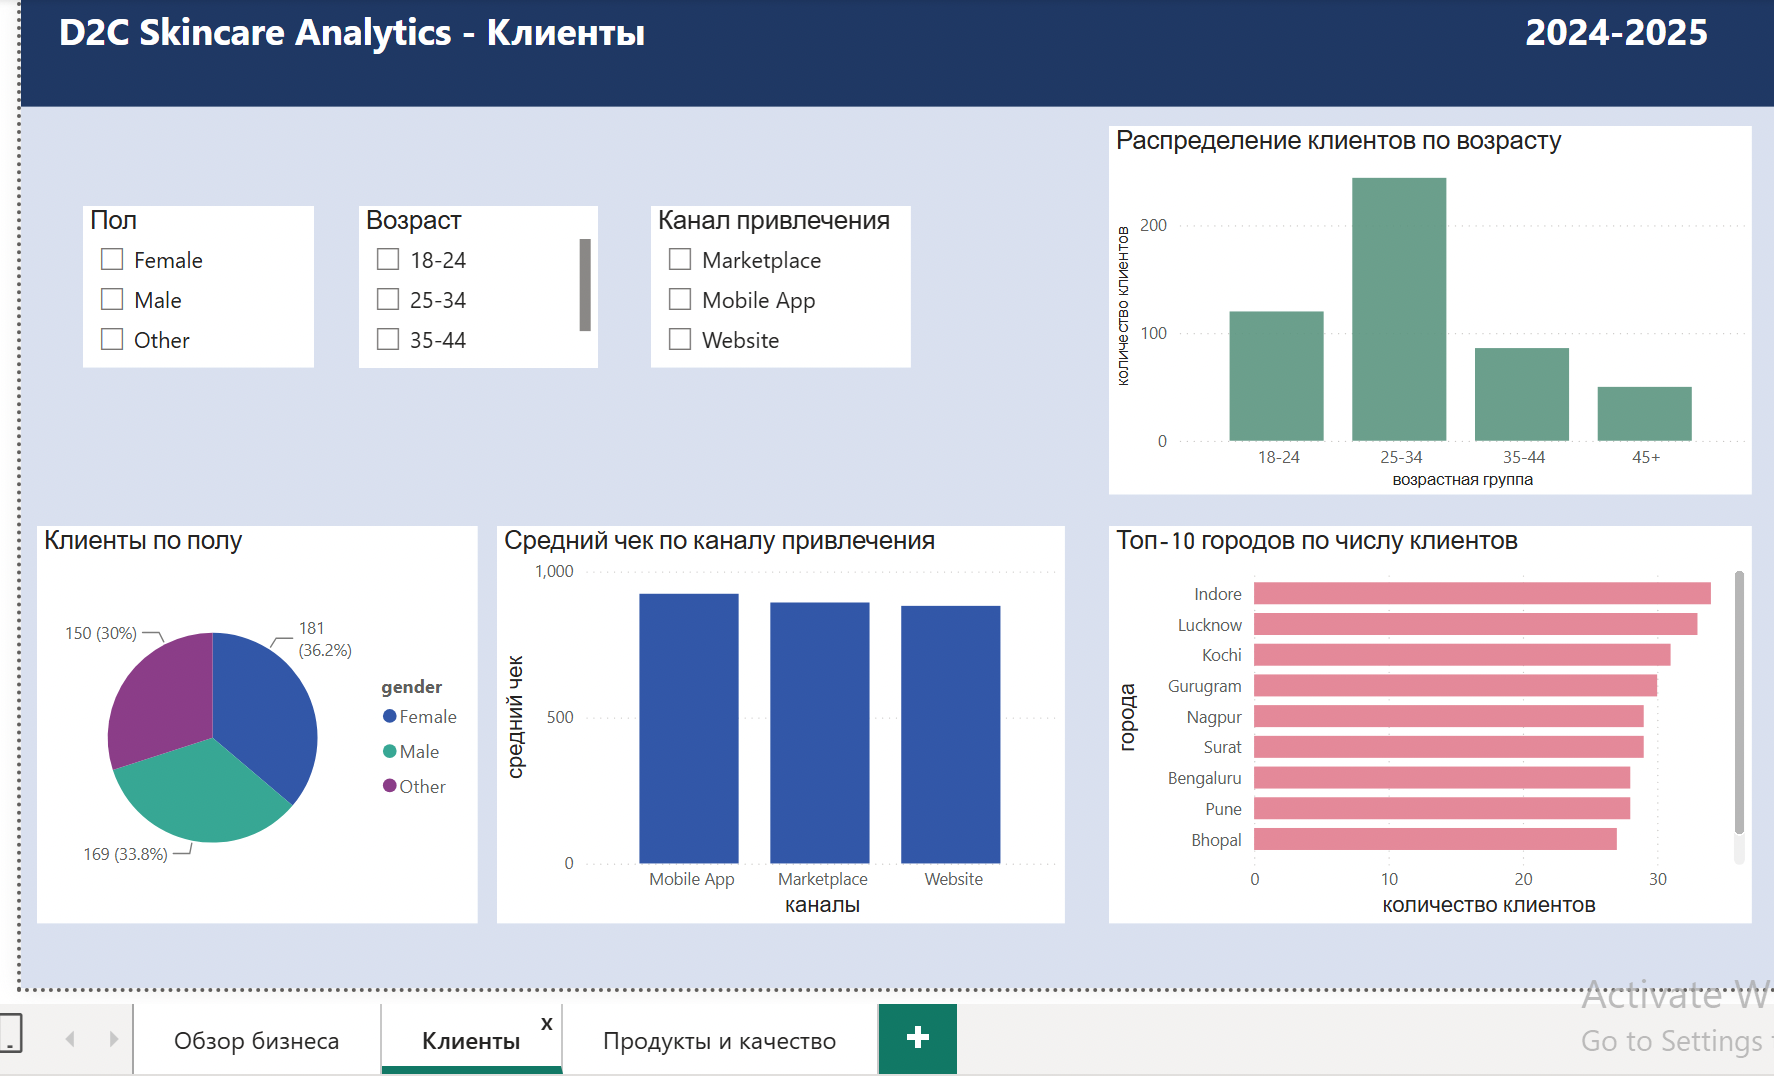

This screenshot's page, from the dashboard's own definition file:
{"tool":"powerbi","page":{"name":"Клиенты","canvas":[1280,720],"ordinal":1},"visuals":[{"type":"pieChart","title":"Клиенты по полу","fields":{"Category":["Customers.gender"],"Y":["Count(Customers.customer_id)"]},"box":[12.3,383.5,320.4,288.9],"z":0},{"type":"clusteredColumnChart","title":"Распределение клиентов по возрасту","fields":{"Category":["Customers.age_group"],"Y":["Count(Customers.customer_id)"]},"box":[791.5,92.8,467.5,267.9],"z":1000},{"type":"clusteredColumnChart","title":"Средний чек по каналу привлечения","fields":{"Category":["Orders.sales_channel"],"Y":["Orders.СреднийЧек_по_каналу"]},"box":[346.7,383.5,413.2,288.9],"z":2000},{"type":"clusteredBarChart","title":"Топ-10 городов по числу клиентов","fields":{"Category":["Customers.city"],"Y":["Count(Customers.customer_id)"]},"box":[791.5,383.5,467.5,288.9],"z":3000},{"type":"textbox","box":[0,0,1280,78.8],"z":4000},{"type":"slicer","title":"Пол","fields":{"Values":["Customers.gender"]},"box":[45.5,150.6,168.1,117.3],"z":4000,"group":"g1"},{"type":"group","id":"g1","title":"Группа 1","box":[45.5,150.6,602.4,117.3],"z":5000},{"type":"slicer","title":"Возраст","fields":{"Values":["Customers.age_group"]},"box":[246.9,150.6,173.4,117.3],"z":5000,"group":"g1"},{"type":"slicer","title":"Канал привлечения","fields":{"Values":["Orders.sales_channel"]},"box":[458.7,150.6,189.1,117.3],"z":6000,"group":"g1"}]}

Visuals, with their boxes on the page's 1280x720 design canvas (x1, y1, x2, y2). These are canvas units, not pixel positions in the 1774x1076 screenshot, which may show the page scaled, cropped or inside an application window:
"Клиенты по полу" pieChart: 12:384:333:672
"Распределение клиентов по возрасту" clusteredColumnChart: 792:93:1259:361
"Средний чек по каналу привлечения" clusteredColumnChart: 347:384:760:672
"Топ-10 городов по числу клиентов" clusteredBarChart: 792:384:1259:672
textbox: 0:0:1280:79
"Пол" slicer: 46:151:214:268
"Группа 1" group: 46:151:648:268
"Возраст" slicer: 247:151:420:268
"Канал привлечения" slicer: 459:151:648:268
